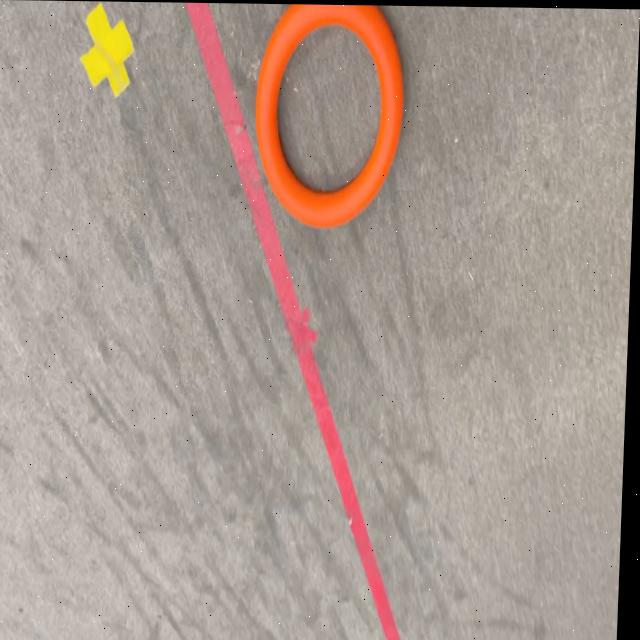note: (253, 3, 406, 227)
